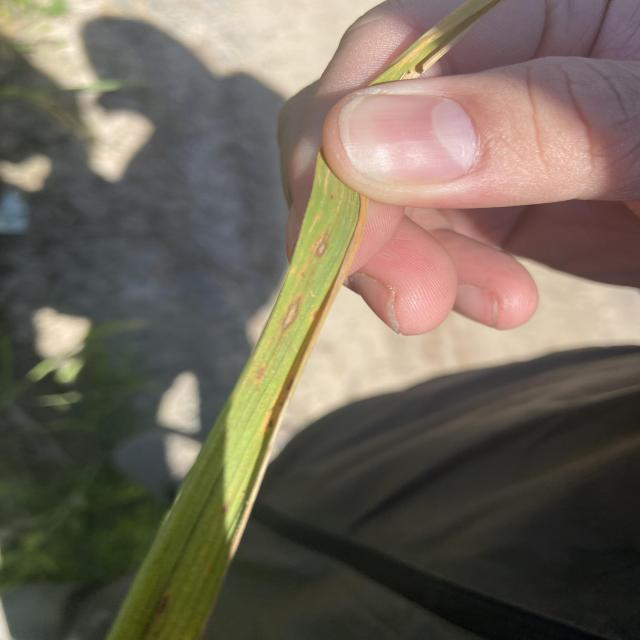Dao on: (283, 299, 299, 330), (317, 235, 329, 256), (256, 364, 270, 380)
